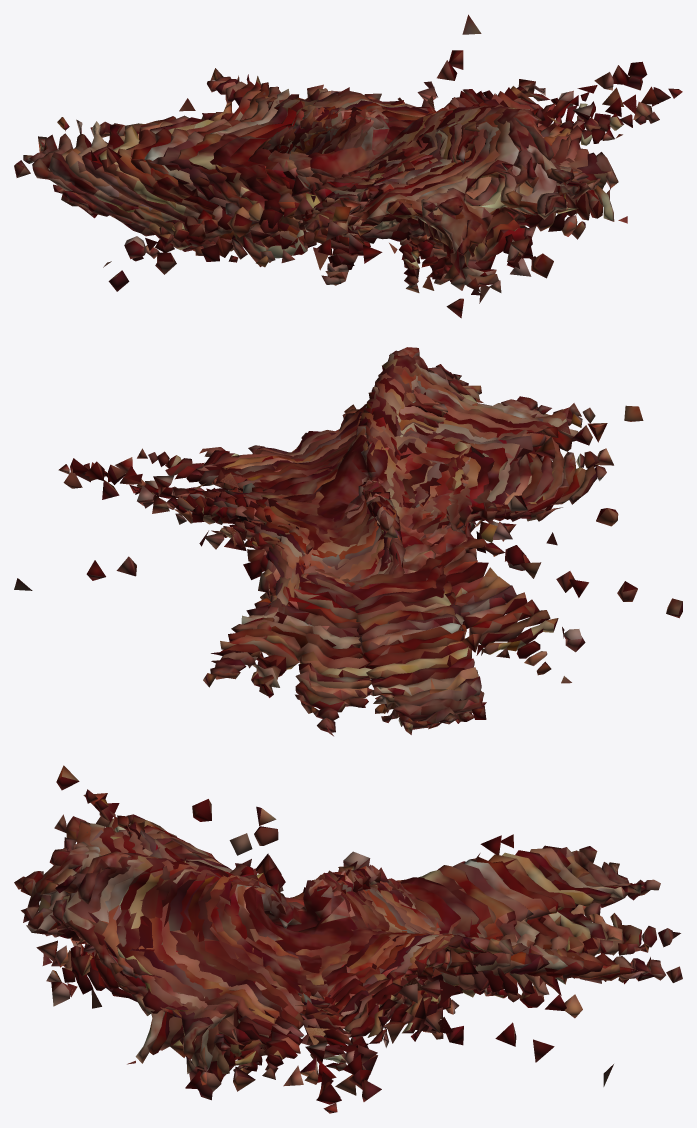
File: Blood_04.fbx
The picture shows the model from 3 angles, top to bottom: view 1: azimuth 30°, elevation 25°; view 2: azimuth 150°, elevation 25°; view 3: azimuth 270°, elevation 25°; orthographic projection. The views are drawn at different scales.
Visible parts, largest first — view 1: LOD_1_Group_15_Sub_1__lambert2, LOD_1_Group_14_Sub_1__lambert2, LOD_1_Group_12_Sub_1__lambert2, LOD_1_Group_16_Sub_1__lambert2, LOD_1_Group_13_Sub_1__lambert2, LOD_1_Group_10_Sub_1__lambert2, LOD_1_Group_11_Sub_1__lambert2, LOD_1_Group_9_Sub_1__lambert2, LOD_1_Group_8_Sub_1__lambert2, LOD_1_Group_17_Sub_1__lambert2, LOD_1_Group_7_Sub_1__lambert2, LOD_1_Group_6_Sub_1__lambert2 (+6 smaller); view 2: LOD_1_Group_12_Sub_1__lambert2, LOD_1_Group_10_Sub_1__lambert2, LOD_1_Group_9_Sub_1__lambert2, LOD_1_Group_13_Sub_1__lambert2, LOD_1_Group_11_Sub_1__lambert2, LOD_1_Group_8_Sub_1__lambert2, LOD_1_Group_14_Sub_1__lambert2, LOD_1_Group_15_Sub_1__lambert2, LOD_1_Group_7_Sub_1__lambert2, LOD_1_Group_6_Sub_1__lambert2, LOD_1_Group_5_Sub_1__lambert2, LOD_1_Group_4_Sub_1__lambert2 (+6 smaller); view 3: LOD_1_Group_12_Sub_1__lambert2, LOD_1_Group_15_Sub_1__lambert2, LOD_1_Group_13_Sub_1__lambert2, LOD_1_Group_14_Sub_1__lambert2, LOD_1_Group_11_Sub_1__lambert2, LOD_1_Group_10_Sub_1__lambert2, LOD_1_Group_9_Sub_1__lambert2, LOD_1_Group_16_Sub_1__lambert2, LOD_1_Group_8_Sub_1__lambert2, LOD_1_Group_7_Sub_1__lambert2, LOD_1_Group_0_Sub_1__lambert2, LOD_1_Group_6_Sub_1__lambert2 (+6 smaller).
Boxes of the visible parts, bbox=[...] form: LOD_1_Group_15_Sub_1__lambert2: bbox=[48, 14, 659, 318]; LOD_1_Group_14_Sub_1__lambert2: bbox=[65, 75, 682, 285]; LOD_1_Group_12_Sub_1__lambert2: bbox=[98, 76, 658, 287]; LOD_1_Group_16_Sub_1__lambert2: bbox=[32, 76, 618, 292]; LOD_1_Group_13_Sub_1__lambert2: bbox=[82, 74, 670, 279]; LOD_1_Group_10_Sub_1__lambert2: bbox=[106, 65, 629, 266]; LOD_1_Group_11_Sub_1__lambert2: bbox=[91, 50, 647, 273]; LOD_1_Group_9_Sub_1__lambert2: bbox=[130, 60, 613, 258]; LOD_1_Group_8_Sub_1__lambert2: bbox=[150, 81, 597, 253]; LOD_1_Group_17_Sub_1__lambert2: bbox=[14, 68, 600, 295]; LOD_1_Group_7_Sub_1__lambert2: bbox=[169, 87, 557, 241]; LOD_1_Group_6_Sub_1__lambert2: bbox=[189, 104, 562, 235]; LOD_1_Group_12_Sub_1__lambert2: bbox=[89, 372, 643, 678]; LOD_1_Group_10_Sub_1__lambert2: bbox=[84, 381, 618, 662]; LOD_1_Group_9_Sub_1__lambert2: bbox=[108, 386, 592, 654]; LOD_1_Group_13_Sub_1__lambert2: bbox=[77, 364, 595, 688]; LOD_1_Group_11_Sub_1__lambert2: bbox=[70, 374, 570, 669]; LOD_1_Group_8_Sub_1__lambert2: bbox=[123, 391, 532, 642]; LOD_1_Group_14_Sub_1__lambert2: bbox=[58, 359, 586, 700]; LOD_1_Group_15_Sub_1__lambert2: bbox=[14, 353, 682, 713]; LOD_1_Group_7_Sub_1__lambert2: bbox=[189, 398, 554, 635]; LOD_1_Group_6_Sub_1__lambert2: bbox=[194, 402, 536, 622]; LOD_1_Group_5_Sub_1__lambert2: bbox=[219, 408, 526, 612]; LOD_1_Group_4_Sub_1__lambert2: bbox=[206, 412, 505, 600]; LOD_1_Group_12_Sub_1__lambert2: bbox=[56, 765, 619, 1097]; LOD_1_Group_15_Sub_1__lambert2: bbox=[26, 806, 654, 1101]; LOD_1_Group_13_Sub_1__lambert2: bbox=[56, 789, 640, 1104]; LOD_1_Group_14_Sub_1__lambert2: bbox=[45, 820, 649, 1113]; LOD_1_Group_11_Sub_1__lambert2: bbox=[94, 809, 603, 1089]; LOD_1_Group_10_Sub_1__lambert2: bbox=[83, 793, 583, 1082]; LOD_1_Group_9_Sub_1__lambert2: bbox=[99, 803, 567, 1064]; LOD_1_Group_16_Sub_1__lambert2: bbox=[27, 814, 665, 1073]; LOD_1_Group_8_Sub_1__lambert2: bbox=[140, 830, 549, 1063]; LOD_1_Group_7_Sub_1__lambert2: bbox=[126, 822, 532, 1032]; LOD_1_Group_0_Sub_1__lambert2: bbox=[243, 880, 357, 973]; LOD_1_Group_6_Sub_1__lambert2: bbox=[164, 847, 511, 1044].
Bounding box in the file's own units: 0.1199 × 0.045 × 0.105.
